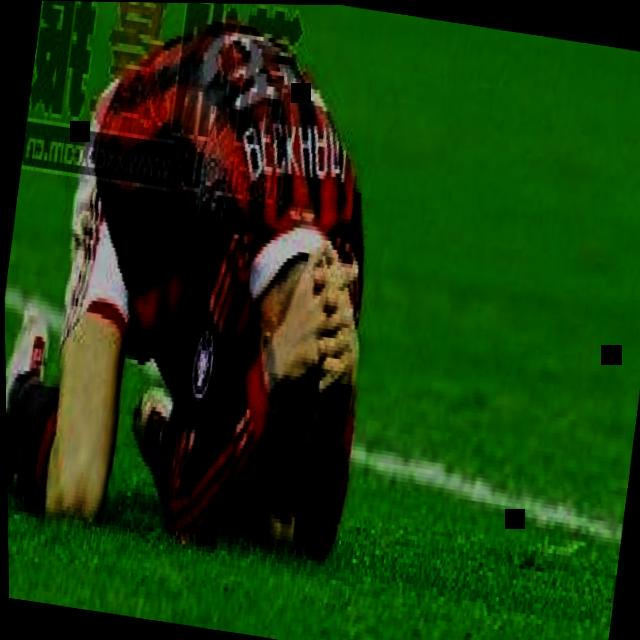Fall-Detected: (0, 0, 437, 579)
